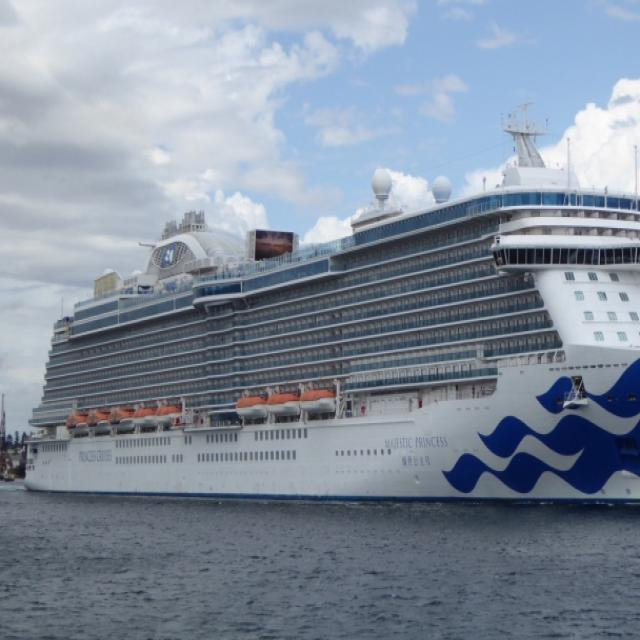cruises: (19, 99, 640, 514)
